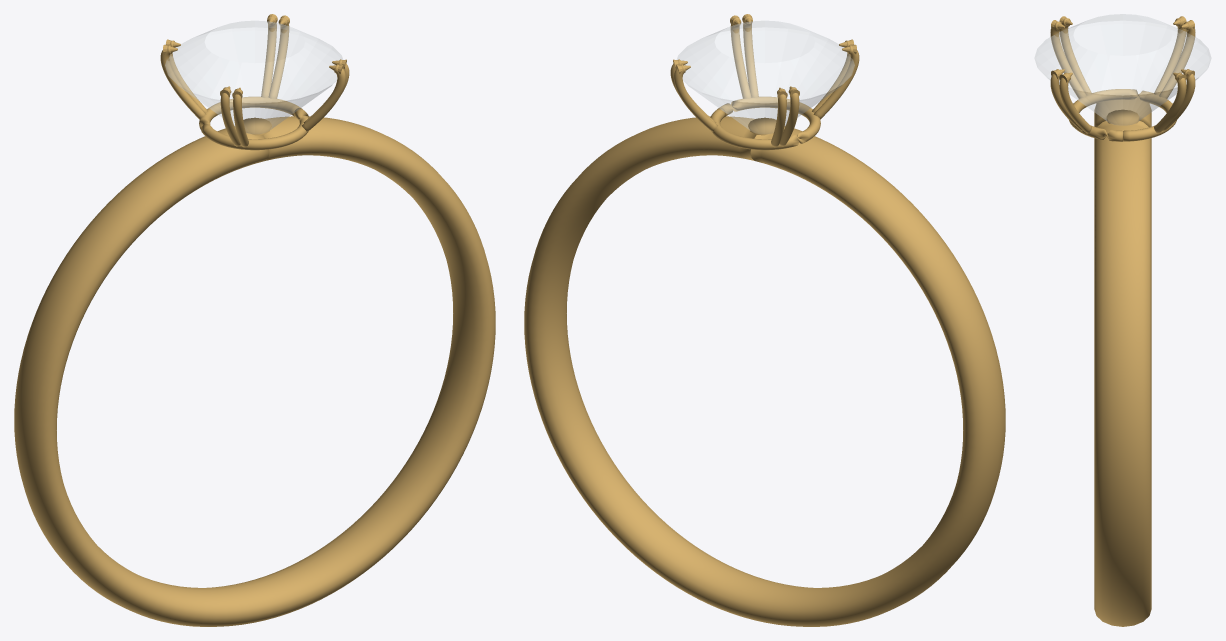
File: settings-double-claw.glb
3 renders of one model, left to right at view 1: azimuth 30°, elevation 25°; view 2: azimuth 150°, elevation 25°; view 3: azimuth 270°, elevation 25°, orthographic.
Visible parts, largest first — view 1: Band, Gem, Lower gallery, Prong.003, Prong, Prong.001, Prong.006; view 2: Band, Gem, Lower gallery, Prong.004, Prong.007, Prong.006, Prong.001; view 3: Band, Gem, Lower gallery, Prong.002, Prong.005, Prong.003, Prong.004, Prong.007, Prong, Head stem, Prong.006, Prong.001.
Part boxes in pixels (x1,y1,x2,y2): Band: [14, 116, 495, 626]; Gem: [165, 21, 342, 133]; Lower gallery: [199, 96, 309, 150]; Prong.003: [160, 45, 206, 119]; Prong: [268, 18, 289, 98]; Prong.001: [261, 16, 276, 97]; Prong.006: [302, 64, 345, 131]; Band: [524, 116, 1005, 626]; Gem: [677, 21, 854, 133]; Lower gallery: [710, 96, 820, 150]; Prong.004: [813, 45, 859, 119]; Prong.007: [730, 18, 751, 98]; Prong.006: [743, 16, 758, 97]; Prong.001: [674, 64, 717, 131]; Band: [1094, 97, 1151, 626]; Gem: [1034, 14, 1211, 125]; Lower gallery: [1069, 89, 1176, 141]; Prong.002: [1159, 21, 1195, 98]; Prong.005: [1050, 21, 1086, 98]; Prong.003: [1154, 18, 1186, 95]; Prong.004: [1059, 18, 1091, 95]; Prong.007: [1059, 72, 1091, 133]; Prong: [1154, 72, 1186, 133]; Head stem: [1106, 109, 1139, 124]; Prong.006: [1050, 69, 1083, 131]; Prong.001: [1162, 69, 1195, 131].
Size of the model in its own units: 19.6 by 22.94 by 6.5.
